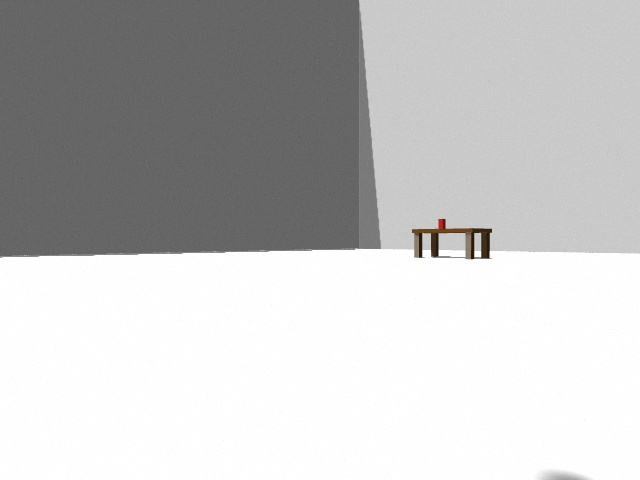red_cube: (439, 219, 443, 229)
